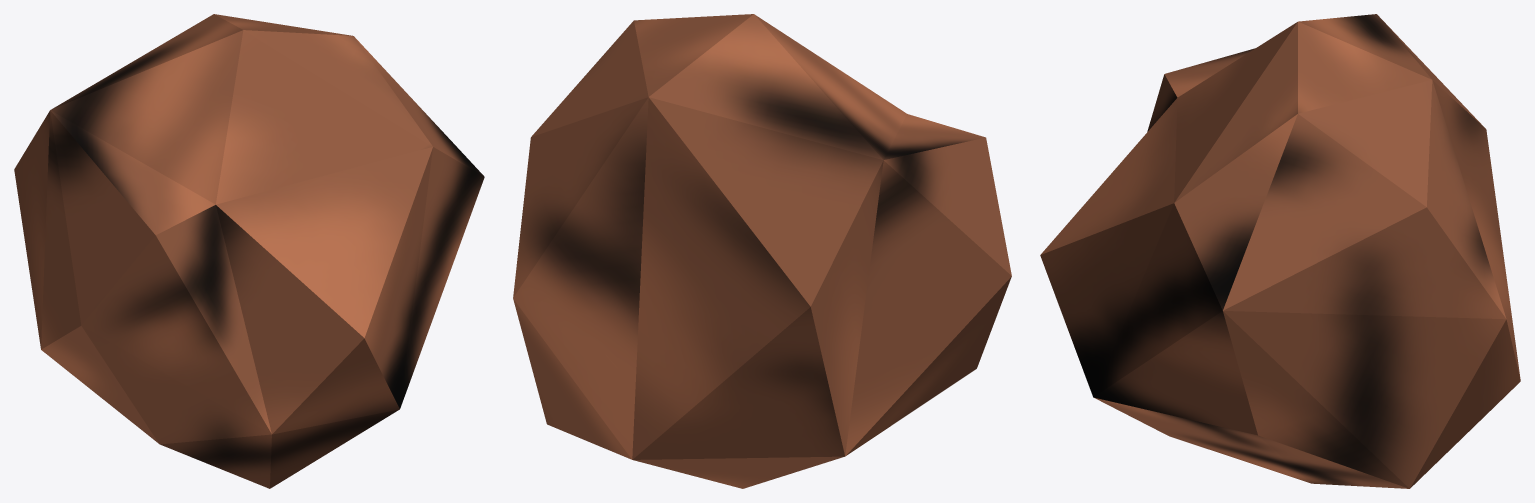
Rendered from AreaRock.obj.
3 renders of one model, left to right at view 1: azimuth 30°, elevation 25°; view 2: azimuth 150°, elevation 25°; view 3: azimuth 270°, elevation 25°, orthographic. The views are drawn at different scales.
Visible parts, largest first — view 1: ICO球; view 2: ICO球; view 3: ICO球.
Part boxes in pixels (x1=…): ICO球: x1=14, y1=14, x2=484, y2=488; ICO球: x1=513, y1=14, x2=1011, y2=488; ICO球: x1=1040, y1=14, x2=1520, y2=488.
Size of the model in its own units: 1.93 by 1.97 by 1.86.
Materials: 1 (1 with a texture image).
